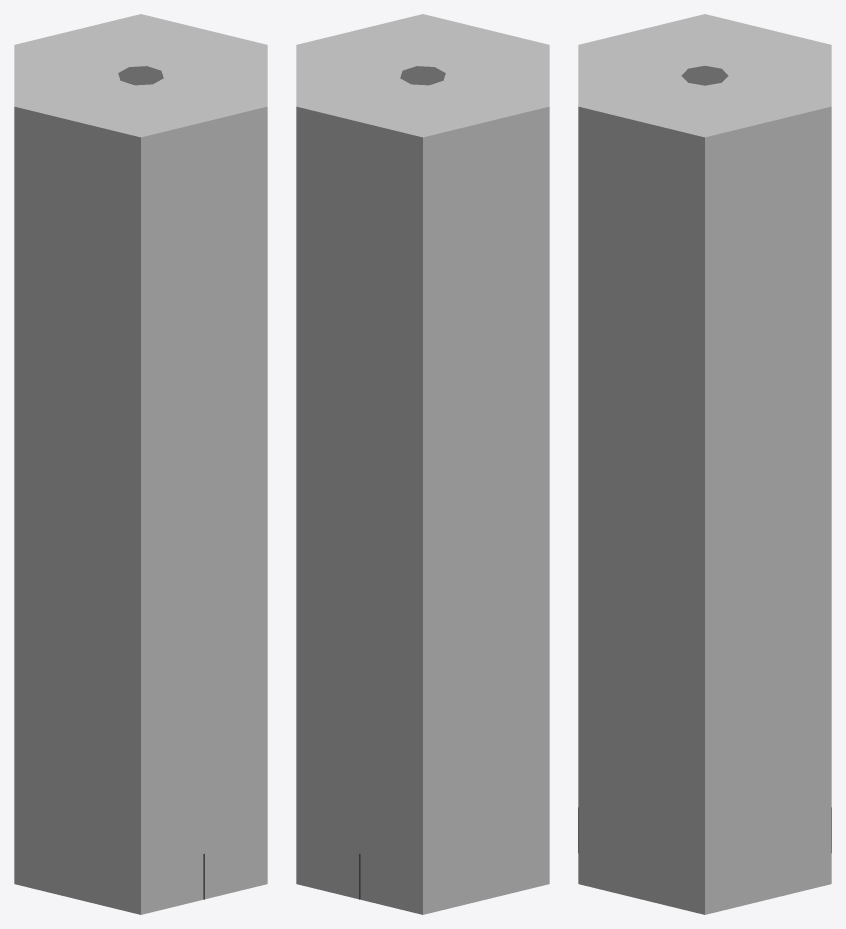
The model's file is SM_PavementBarriers_02.fbx.
3 views of the same model, side by side, from view 1: azimuth 30°, elevation 25°; view 2: azimuth 150°, elevation 25°; view 3: azimuth 270°, elevation 25° (orthographic).
Parts seen in each view (by area): view 1: SM_PavementBarriers_02_ConvexHulls, SM_PavementBarriers_02; view 2: SM_PavementBarriers_02_ConvexHulls, SM_PavementBarriers_02; view 3: SM_PavementBarriers_02_ConvexHulls, SM_PavementBarriers_02.
Boxes of the visible parts, left/top/right/bottom form: SM_PavementBarriers_02_ConvexHulls: left=14, top=14, right=267, bottom=914; SM_PavementBarriers_02: left=118, top=66, right=204, bottom=899; SM_PavementBarriers_02_ConvexHulls: left=296, top=14, right=549, bottom=914; SM_PavementBarriers_02: left=359, top=66, right=445, bottom=899; SM_PavementBarriers_02_ConvexHulls: left=578, top=14, right=831, bottom=914; SM_PavementBarriers_02: left=578, top=66, right=831, bottom=852.
Bounding box in the file's own units: 29.32 × 25.48 × 86.08.
